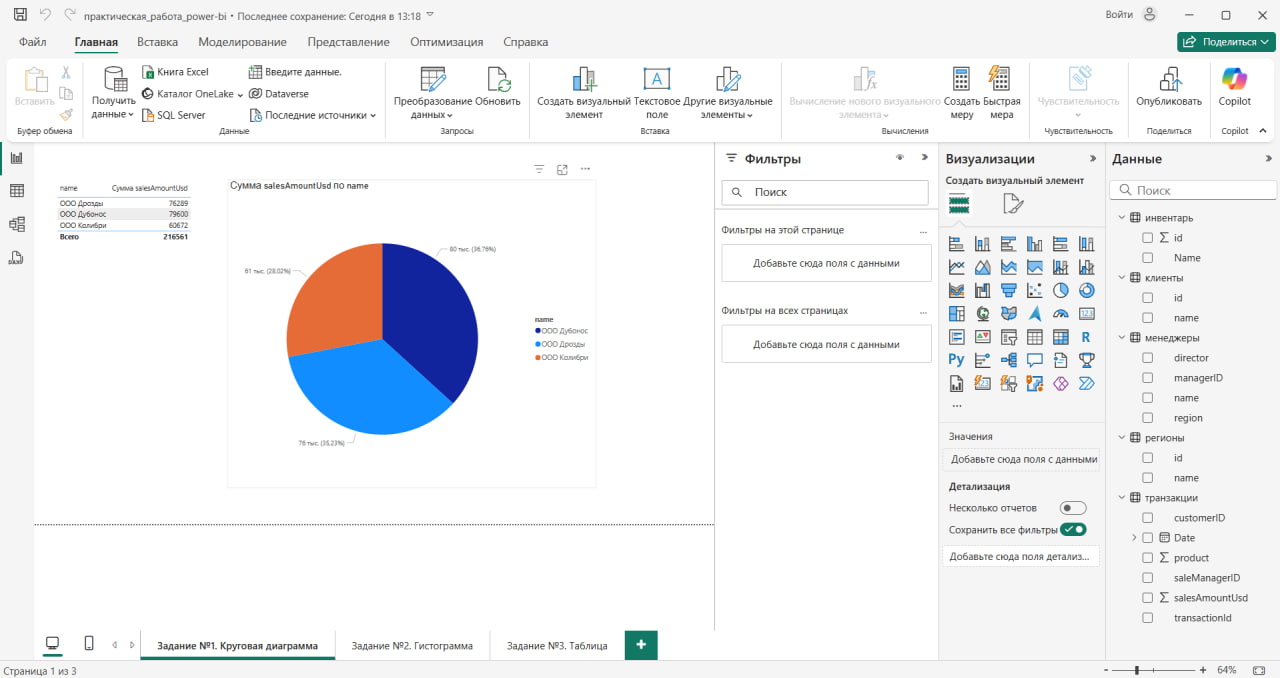

What the dashboard file says about the page in this screenshot:
{"tool":"powerbi","page":{"name":"Задание №1. Круговая диаграмма","canvas":[1280,720],"ordinal":0},"visuals":[{"type":"pieChart","fields":{"Category":["клиенты.name"],"Y":["Sum(транзакции.salesAmountUsd)"]},"box":[364.6,70.2,693.2,582],"z":0},{"type":"tableEx","fields":{"Values":["клиенты.name","Sum(транзакции.salesAmountUsd)"]},"box":[37.7,70.2,268.7,152.3],"z":1}]}

Visuals, with their boxes on the page's 1280x720 design canvas (x1, y1, x2, y2). These are canvas units, not pixel positions in the 1280x678 screenshot, which may show the page scaled, cropped or inside an application window:
pieChart - клиенты.name x Sum(транзакции.salesAmountUsd): (365,70,1058,652)
tableEx - клиенты.name x Sum(транзакции.salesAmountUsd): (38,70,306,222)
